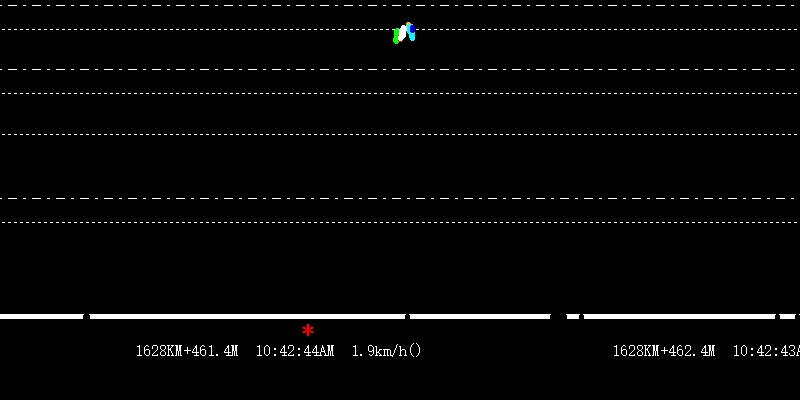face_2: (392, 20, 416, 45)
star: (299, 321, 316, 341)
